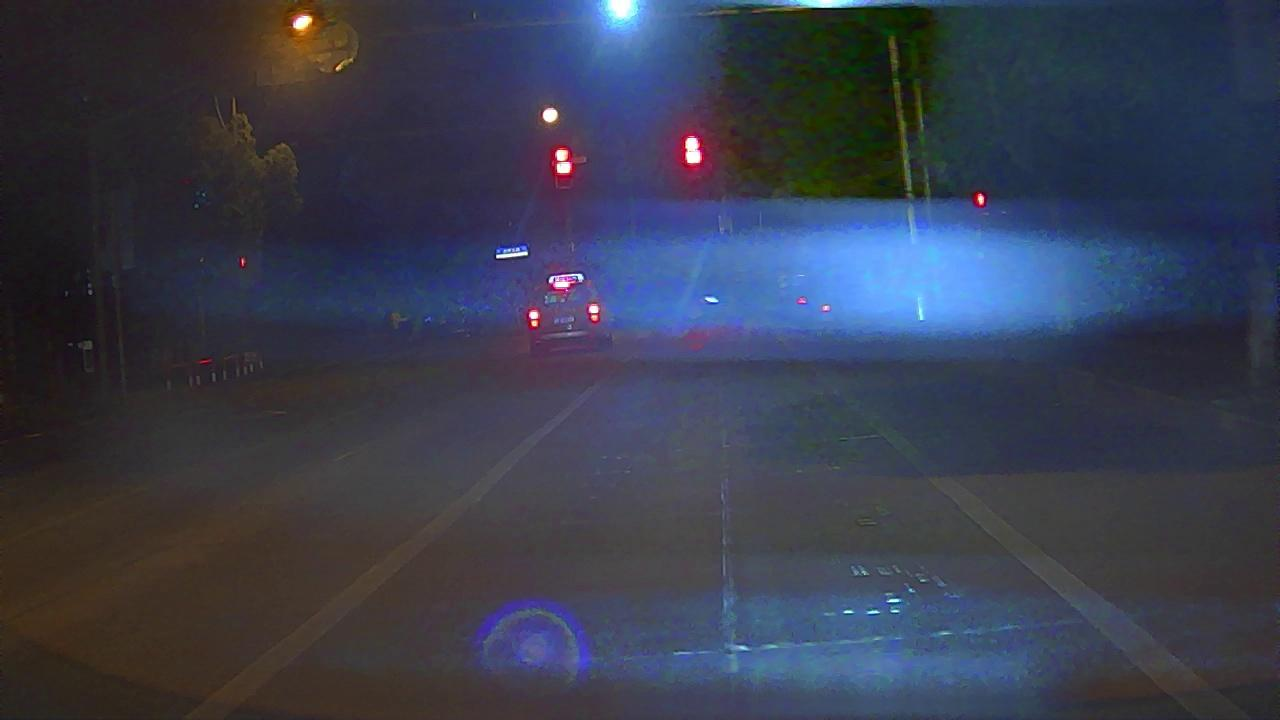traffic_light: (552, 145, 573, 187), (683, 133, 704, 171)
